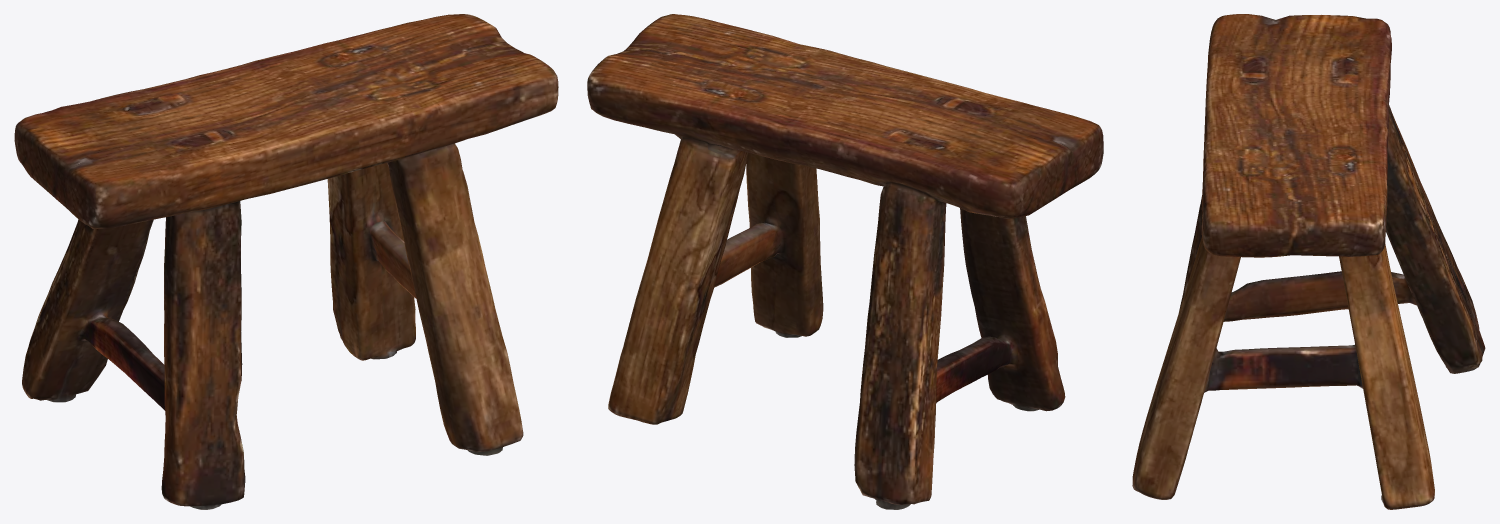
The model's file is wooden_stool_02.7363360a.glb.
The picture shows the model from 3 angles, left to right: view 1: azimuth 30°, elevation 25°; view 2: azimuth 150°, elevation 25°; view 3: azimuth 270°, elevation 25°; orthographic projection. The views are drawn at different scales.
Visible parts, largest first — view 1: wooden_stool_02; view 2: wooden_stool_02; view 3: wooden_stool_02.
Boxes of the visible parts, x1,y1,x2,y2 form: wooden_stool_02: [14, 14, 558, 509]; wooden_stool_02: [587, 14, 1103, 509]; wooden_stool_02: [1132, 14, 1485, 509].
Size of the model in its own units: 0.95 by 0.6518 by 0.6561.
Materials: 1 (1 with a texture image).
